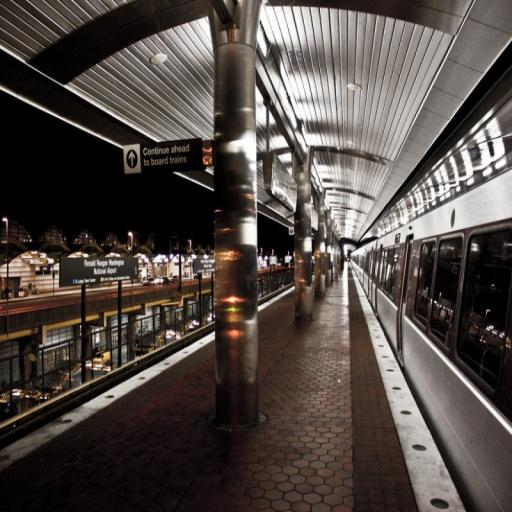platform_edge: (336, 285, 472, 512)
